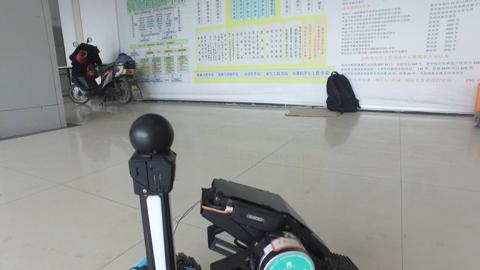bag: (313, 67, 378, 119)
chariot: (89, 122, 365, 270)
